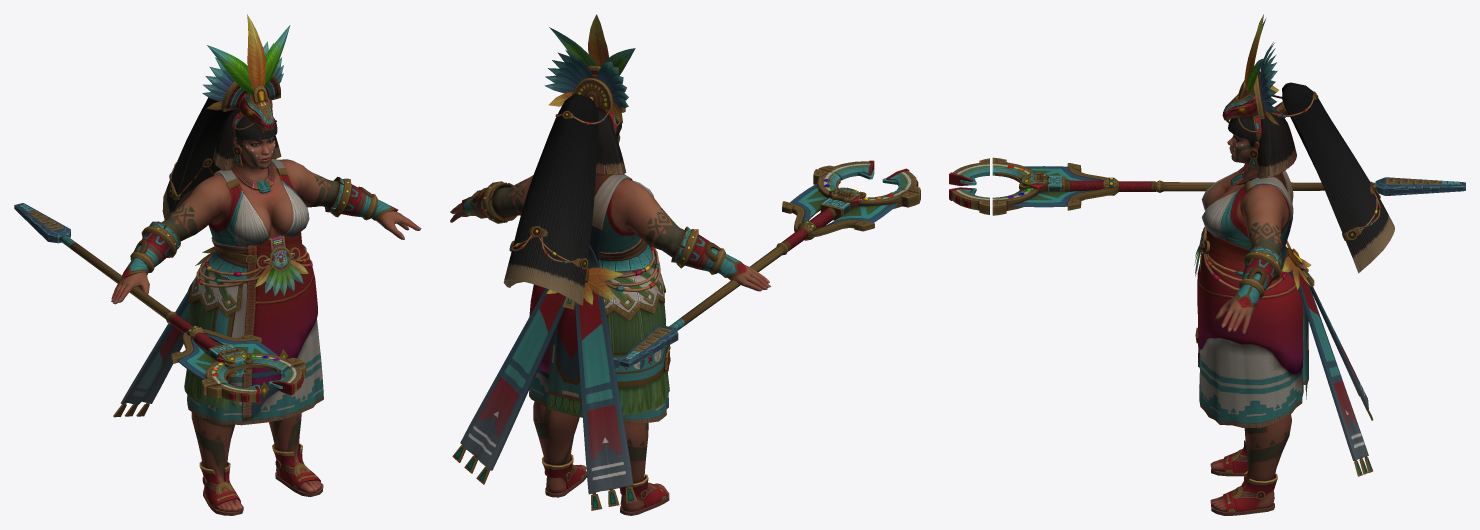
File: smite_-_ix_chel.glb
3 renders of one model, left to right at view 1: azimuth 30°, elevation 25°; view 2: azimuth 150°, elevation 25°; view 3: azimuth 270°, elevation 25°, orthographic. The views are drawn at different scales.
Parts seen in each view (by area): view 1: Object_2; view 2: Object_2; view 3: Object_2.
Boxes of the visible parts, left/top/right/bottom form: Object_2: left=14, top=14, right=421, bottom=515; Object_2: left=450, top=14, right=920, bottom=515; Object_2: left=949, top=14, right=1465, bottom=515.
Size of the model in its own units: 1.05 by 1.42 by 1.4.
1 material, 1 textured.
